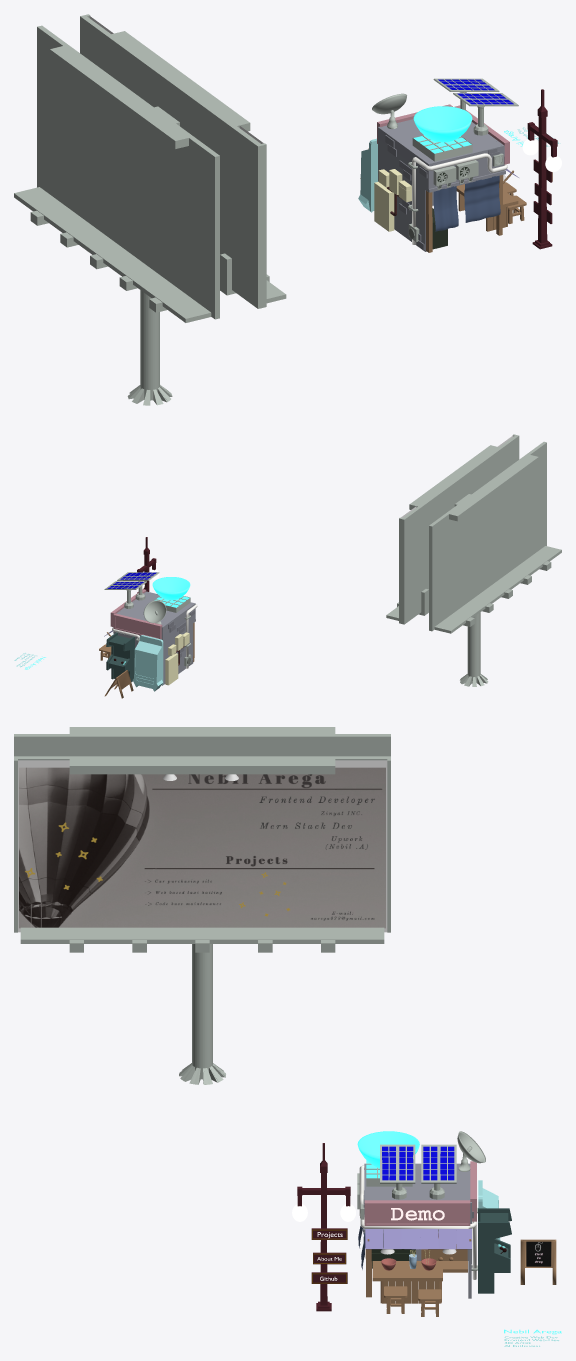
Rendered from NebilFinalModel2.glb.
3 views of the same model, one above another, from view 1: azimuth 30°, elevation 25°; view 2: azimuth 150°, elevation 25°; view 3: azimuth 270°, elevation 25° (orthographic). The views are drawn at different scales.
Parts seen in each view (by area): view 1: Bilboard.003, House, Curtain2, BilboardPole, Panels, Pole, BigBowl, VendingMachine, Source, TeslaPowerBank, Pipe, Tesla (+3 smaller); view 2: Bilboard.003, House, VendingMachine, Game, BilboardPole, Panels, LeftAD, BigBowl, Dish, TeslaPowerBank, Pole, Source; view 3: MyBilboard, Bilboard.003, Panels, BilboardPole, FrontAD, Game, Table, Hammic, House, Pole, BilboardFace, Instruction (+3 smaller).
Part boxes in pixels (x1,y1,x2,y2): Bilboard.003: [14, 14, 286, 322]; House: [377, 119, 505, 251]; Curtain2: [433, 175, 500, 231]; BilboardPole: [127, 290, 172, 405]; Panels: [433, 78, 518, 135]; Pole: [527, 89, 557, 249]; BigBowl: [413, 106, 472, 142]; VendingMachine: [358, 138, 377, 212]; Source: [412, 135, 472, 161]; TeslaPowerBank: [374, 181, 394, 231]; Pipe: [412, 153, 507, 244]; Tesla: [378, 169, 411, 202]; Bilboard.003: [386, 434, 561, 633]; House: [113, 591, 195, 685]; VendingMachine: [132, 635, 163, 691]; Game: [106, 632, 134, 681]; BilboardPole: [460, 612, 488, 686]; Panels: [104, 572, 159, 608]; LeftAD: [113, 613, 162, 639]; BigBowl: [152, 577, 190, 600]; Dish: [143, 600, 166, 624]; TeslaPowerBank: [165, 653, 178, 685]; Pole: [137, 537, 156, 591]; Source: [154, 596, 190, 612]; MyBilboard: [19, 767, 385, 928]; Bilboard.003: [14, 727, 390, 952]; Panels: [380, 1144, 456, 1199]; BilboardPole: [179, 944, 225, 1084]; FrontAD: [364, 1200, 470, 1225]; Game: [478, 1208, 511, 1293]; Table: [372, 1261, 467, 1303]; Hammic: [365, 1228, 471, 1249]; House: [363, 1163, 471, 1298]; Pole: [297, 1143, 350, 1311]; BilboardFace: [18, 760, 387, 932]; Instruction: [520, 1239, 556, 1284].
Size of the model in its own units: 32.15 by 15.73 by 23.62.
Materials: 30 (2 with a texture image).
